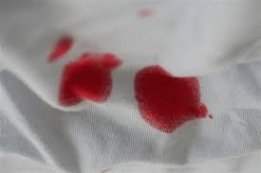blood: (133, 65, 208, 133), (58, 52, 121, 109)
